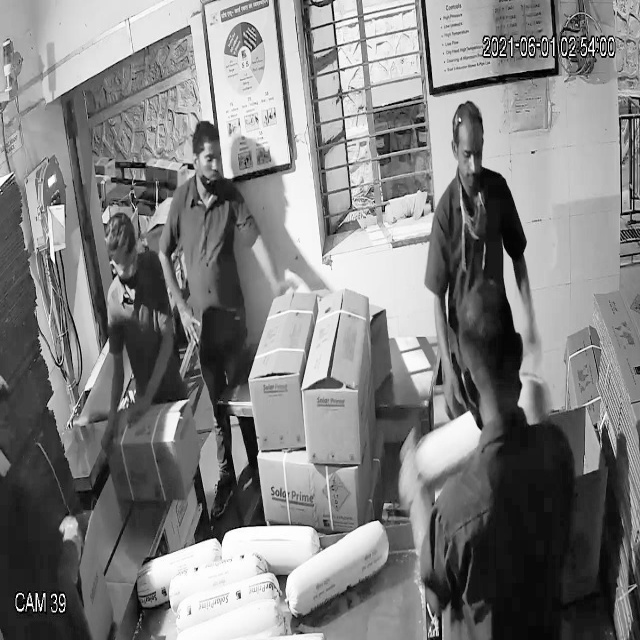Sin_gafas: (446, 137, 492, 172)
